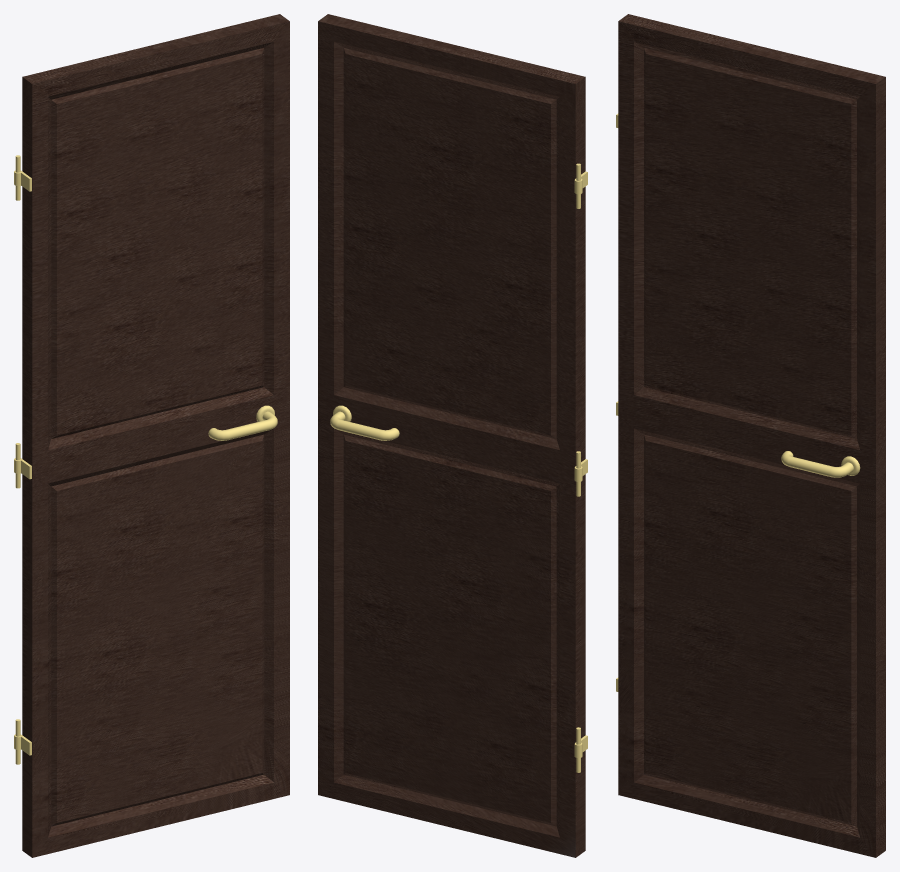
File: InteriorDoorComplete.fbx
The picture shows the model from 3 angles, left to right: view 1: azimuth 30°, elevation 25°; view 2: azimuth 150°, elevation 25°; view 3: azimuth 330°, elevation 25°; orthographic projection.
Parts seen in each view (by area): view 1: InteriorDoor.002, InteriorDoor.001, InteriorDoor; view 2: InteriorDoor.002, InteriorDoor.001, InteriorDoor; view 3: InteriorDoor.002, InteriorDoor.
Part boxes in pixels (x1,y1,x2,y2): InteriorDoor.002: [22, 14, 289, 857]; InteriorDoor.001: [14, 155, 31, 764]; InteriorDoor: [208, 405, 277, 440]; InteriorDoor.002: [318, 14, 585, 857]; InteriorDoor.001: [574, 163, 587, 772]; InteriorDoor: [330, 405, 399, 440]; InteriorDoor.002: [618, 14, 885, 857]; InteriorDoor: [781, 451, 860, 477].
Bounding box in the file's own units: 75.13 × 210 × 18.27.
3 materials, 3 textured.
